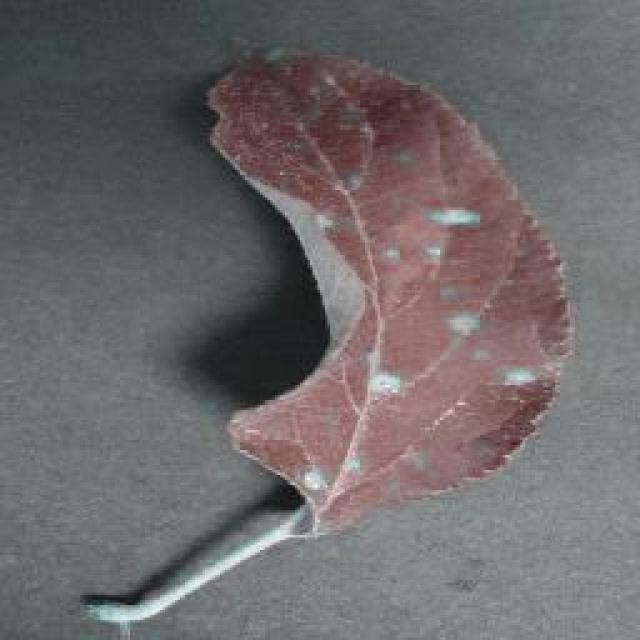apple cedar apple rust: (200, 40, 575, 538)
